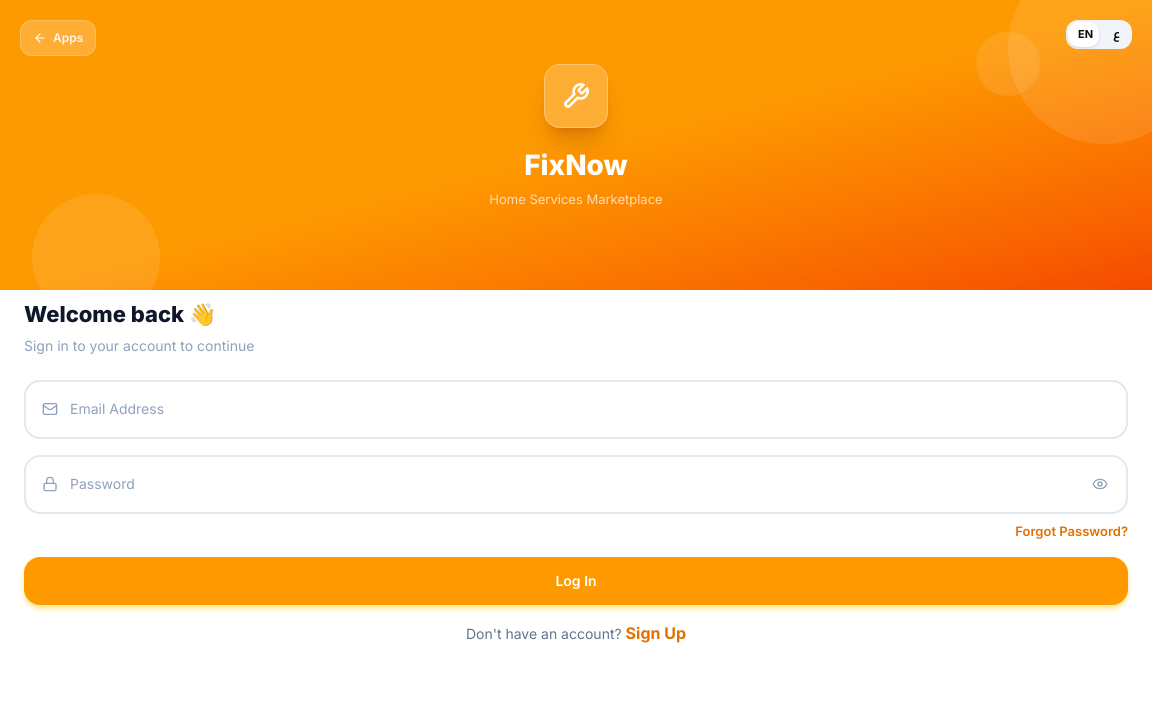
Test: Login → OTP → authenticated › valid credentials reveal the OTP panel; no session before OTP success
Type "ada@example.com" into the field labelled "Email Address".
click(576, 409); type("ada@example.com")  # box [26, 382, 1126, 436]
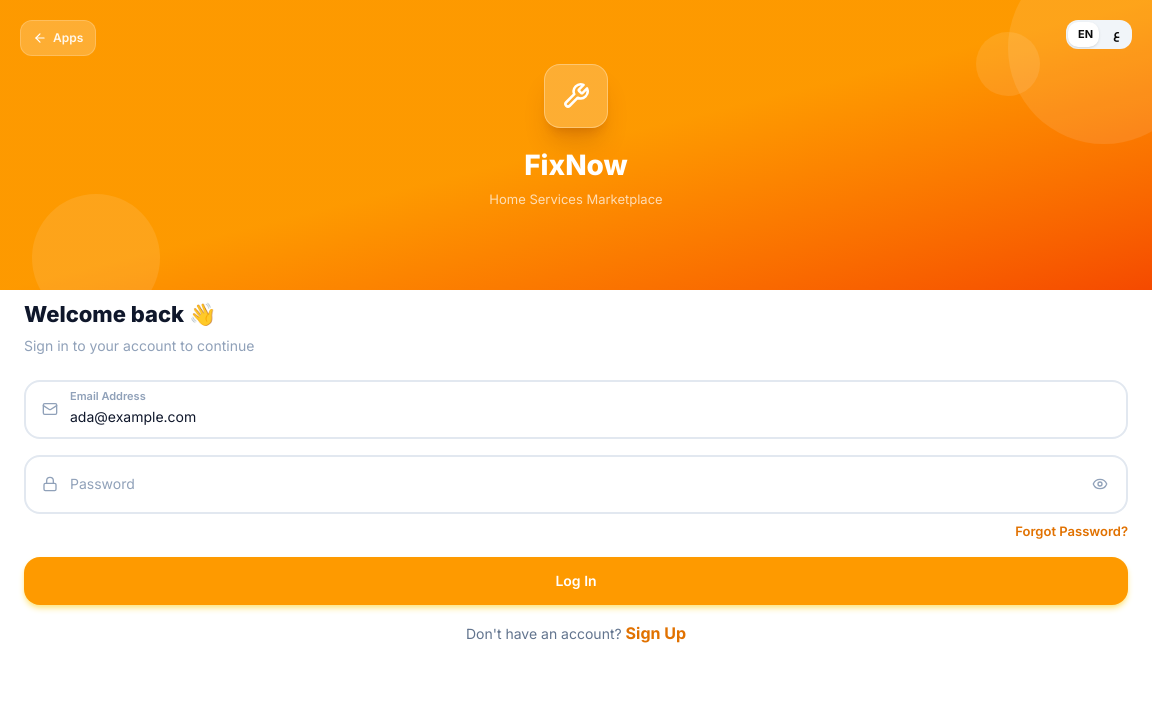
Type "a-reasonable-passphrase" into the password field labelled "Password".
click(576, 484); type("a-reasonable-passphrase")  # box [26, 456, 1126, 512]
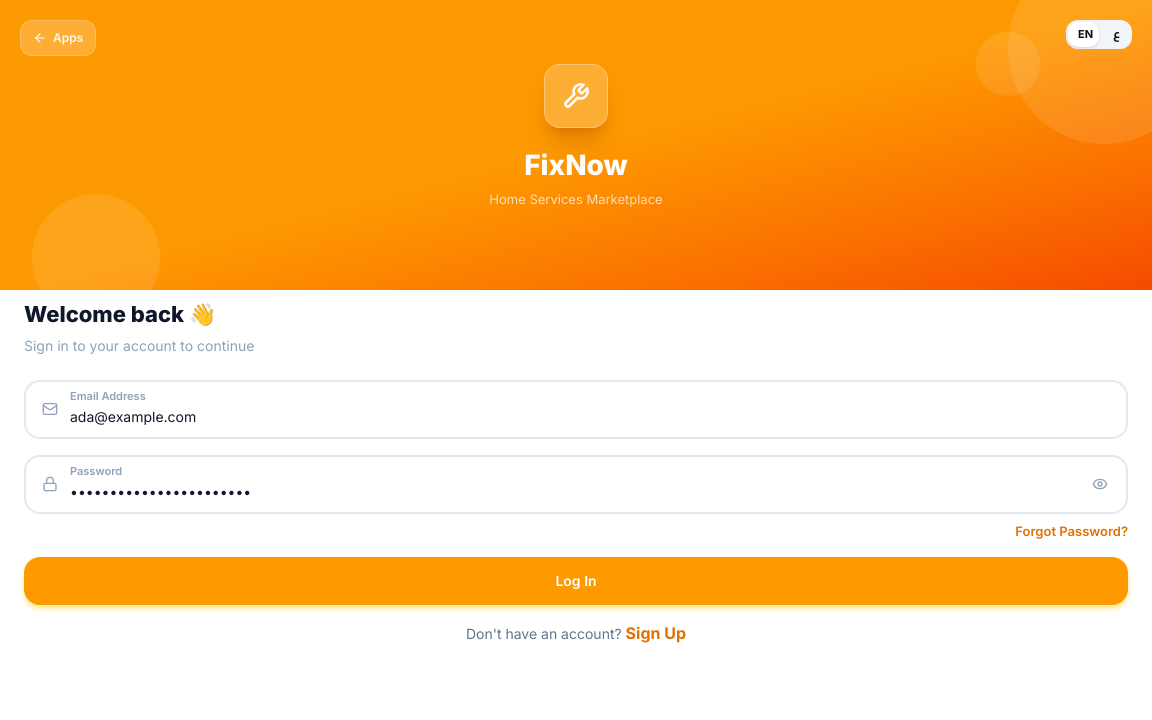
Click the button "Log In".
click(576, 581)  # box [24, 557, 1128, 605]
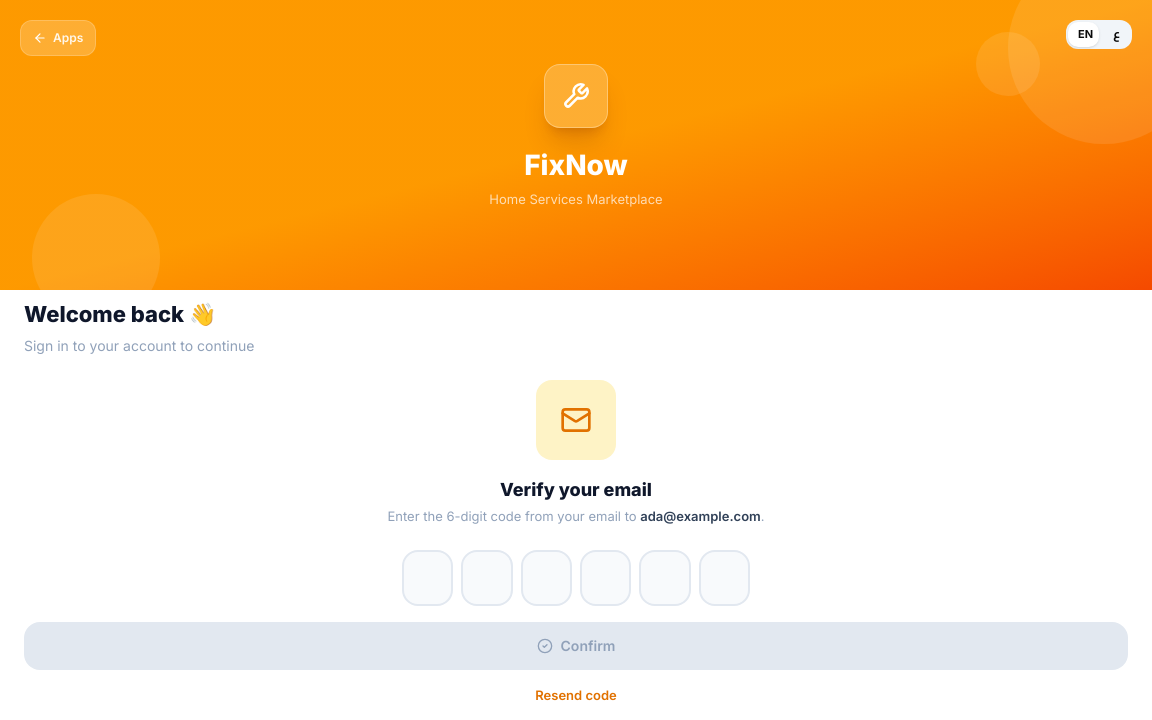
Result: the element with test id "otp-box-0" is shown at [402, 550, 453, 606]
